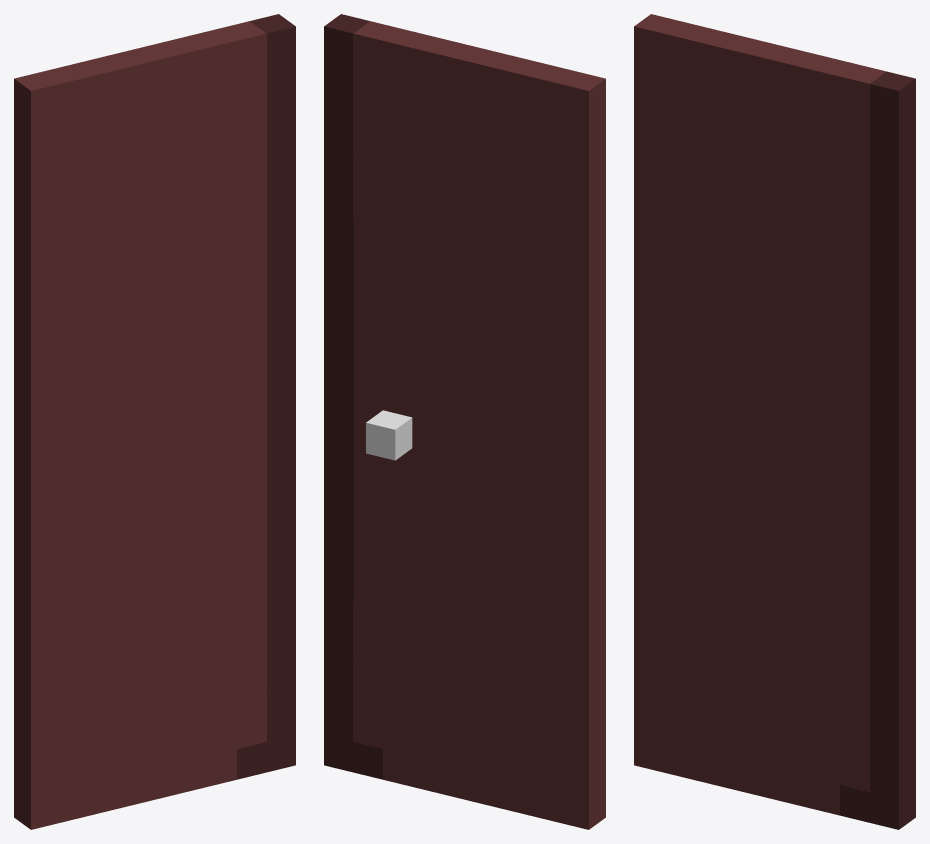
Rendered from komod_door.dae.
3 views of the same model, side by side, from view 1: azimuth 30°, elevation 25°; view 2: azimuth 150°, elevation 25°; view 3: azimuth 330°, elevation 25° (orthographic).
Parts seen in each view (by area): view 1: komod_door.komod_door; view 2: komod_door.komod_door; view 3: komod_door.komod_door.
Part boxes in pixels (x1,y1,x2,y2): komod_door.komod_door: [14, 14, 295, 829]; komod_door.komod_door: [324, 14, 605, 829]; komod_door.komod_door: [634, 14, 915, 829].
Size of the model in its own units: 0.9 by 0.2 by 2.4.
1 material, 1 textured.
